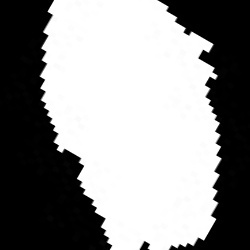spot: (41, 1, 221, 248)
